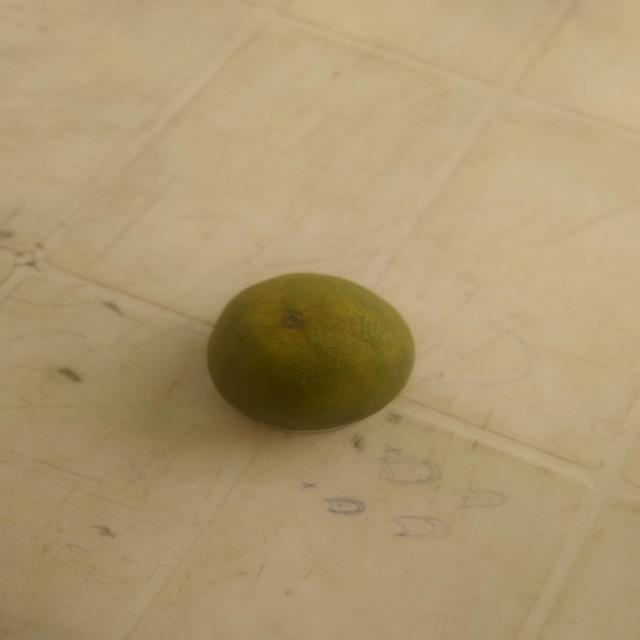agrume: (201, 267, 421, 439)
